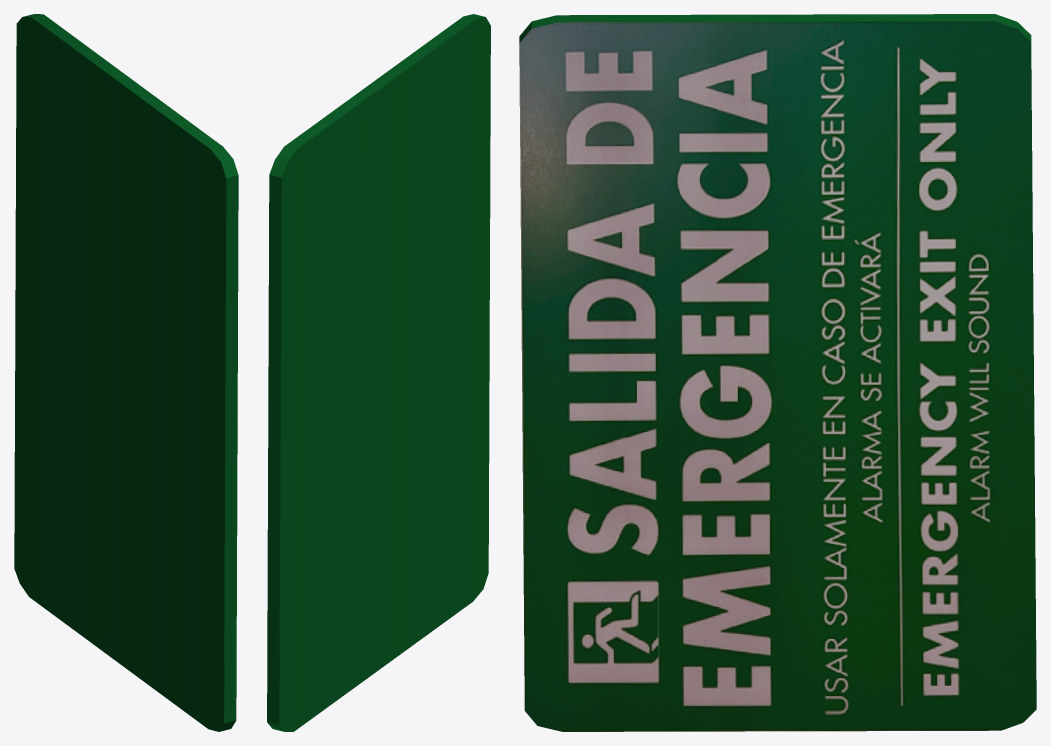
File: ESTACION SALIDA DE EMERGENCIA.fbx
3 views of the same model, side by side, from view 1: azimuth 30°, elevation 25°; view 2: azimuth 150°, elevation 25°; view 3: azimuth 270°, elevation 25° (orthographic). The views are drawn at different scales.
Parts seen in each view (by area): view 1: LETRERO.001; view 2: LETRERO.001; view 3: LETRERO.001.
Part boxes in pixels (x1,y1,x2,y2): LETRERO.001: (14,14,238,731); LETRERO.001: (267,14,490,731); LETRERO.001: (519,14,1036,731).
Bounding box in the file's own units: 10.79 × 480 × 317.
Materials: 1 (1 with a texture image).
